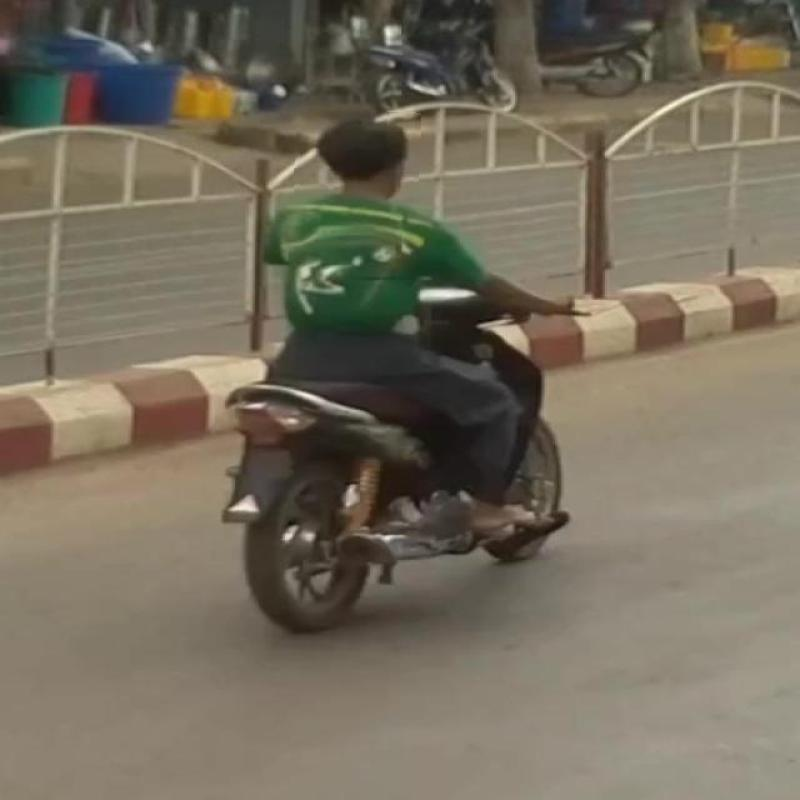nohelmet: (294, 109, 421, 200)
